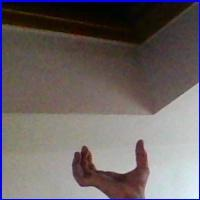space: (63, 136, 160, 195)
